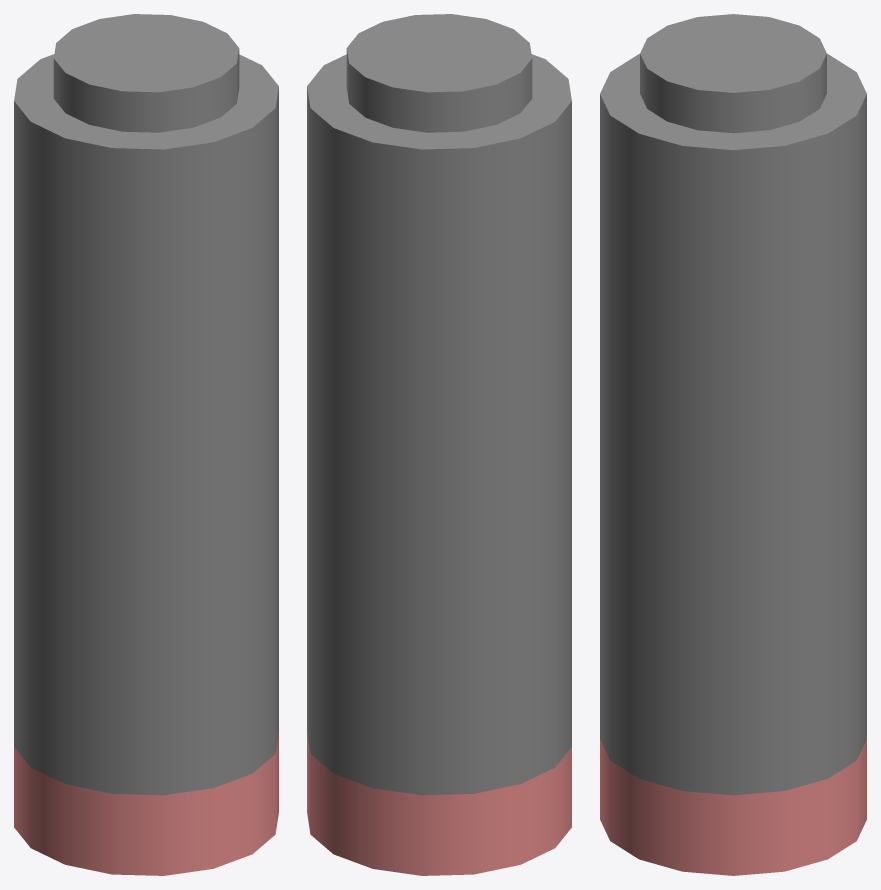
Rendered from SM_Thruster_1x1x3.gltf.
3 views of the same model, side by side, from view 1: azimuth 30°, elevation 25°; view 2: azimuth 150°, elevation 25°; view 3: azimuth 270°, elevation 25° (orthographic).
Visible parts, largest first — view 1: SM_Thruster_1x1x3; view 2: SM_Thruster_1x1x3; view 3: SM_Thruster_1x1x3.
Boxes of the visible parts, bbox=[...] form: SM_Thruster_1x1x3: bbox=[14, 14, 278, 875]; SM_Thruster_1x1x3: bbox=[307, 14, 571, 875]; SM_Thruster_1x1x3: bbox=[600, 14, 866, 875].
Size of the model in its own units: 0.3 by 0.95 by 0.3.
